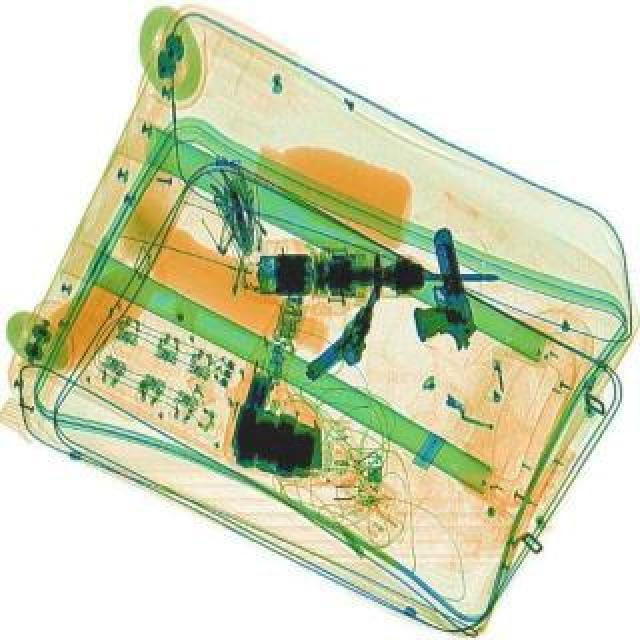gun: (298, 278, 406, 394), (394, 226, 482, 356)
